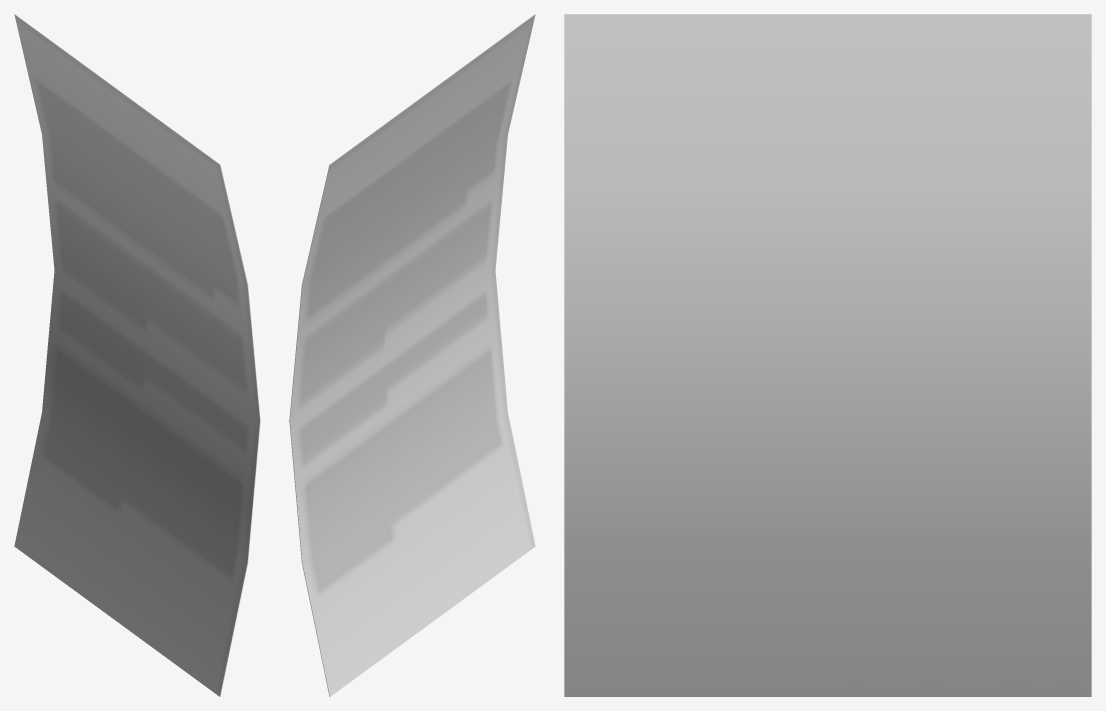
The model's file is Paper05.fbx.
3 renders of one model, left to right at view 1: azimuth 30°, elevation 25°; view 2: azimuth 150°, elevation 25°; view 3: azimuth 270°, elevation 25°, orthographic. The views are drawn at different scales.
Parts seen in each view (by area): view 1: Paper05; view 2: Paper05; view 3: Paper05.
Part boxes in pixels (x1,y1,x2,y2): Paper05: (14,14,260,696); Paper05: (289,14,535,696); Paper05: (564,14,1091,696).
Bounding box in the file's own units: 0.024 × 0.21 × 0.3.
